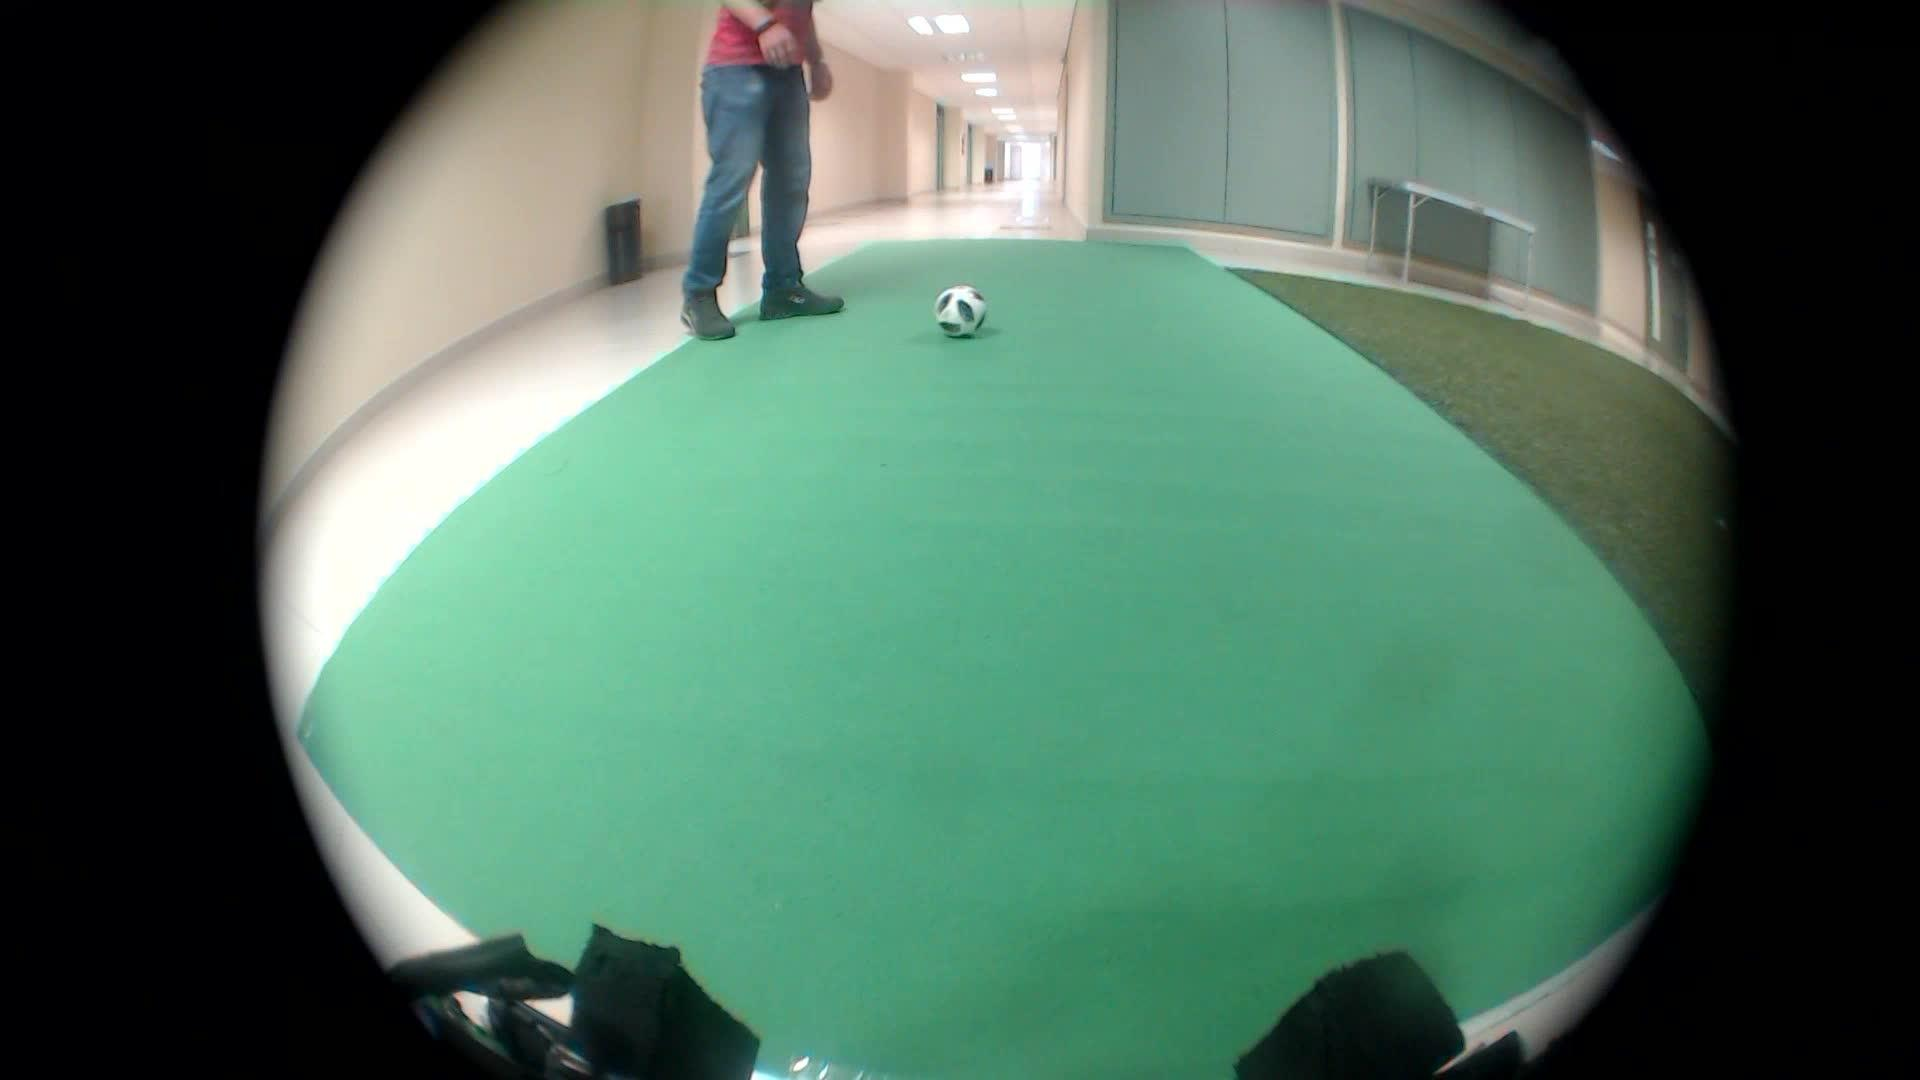ball: (926, 277, 996, 349)
